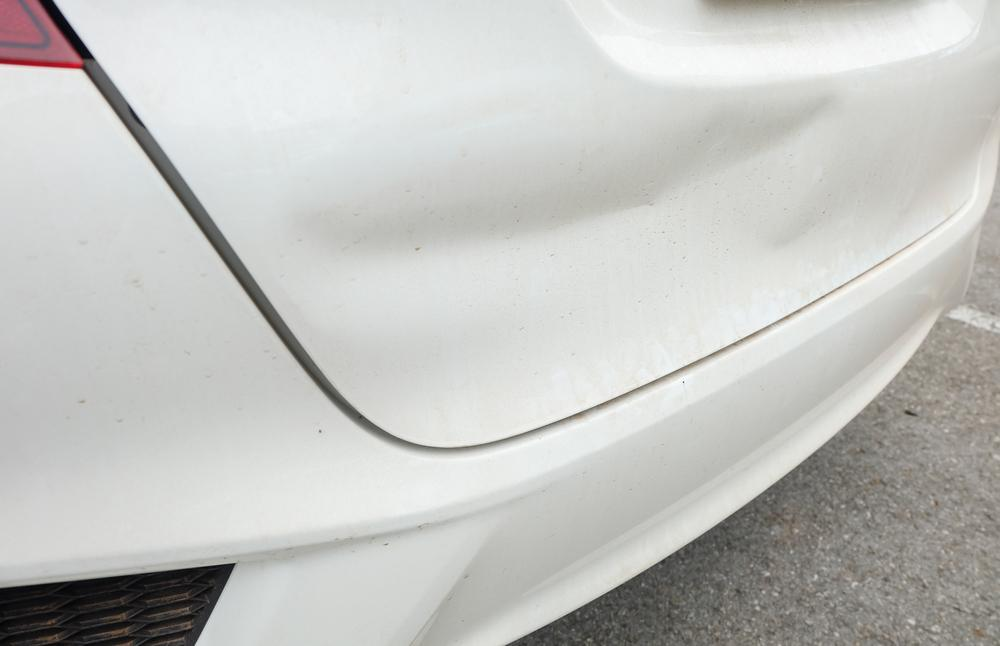dent: (287, 96, 844, 337)
